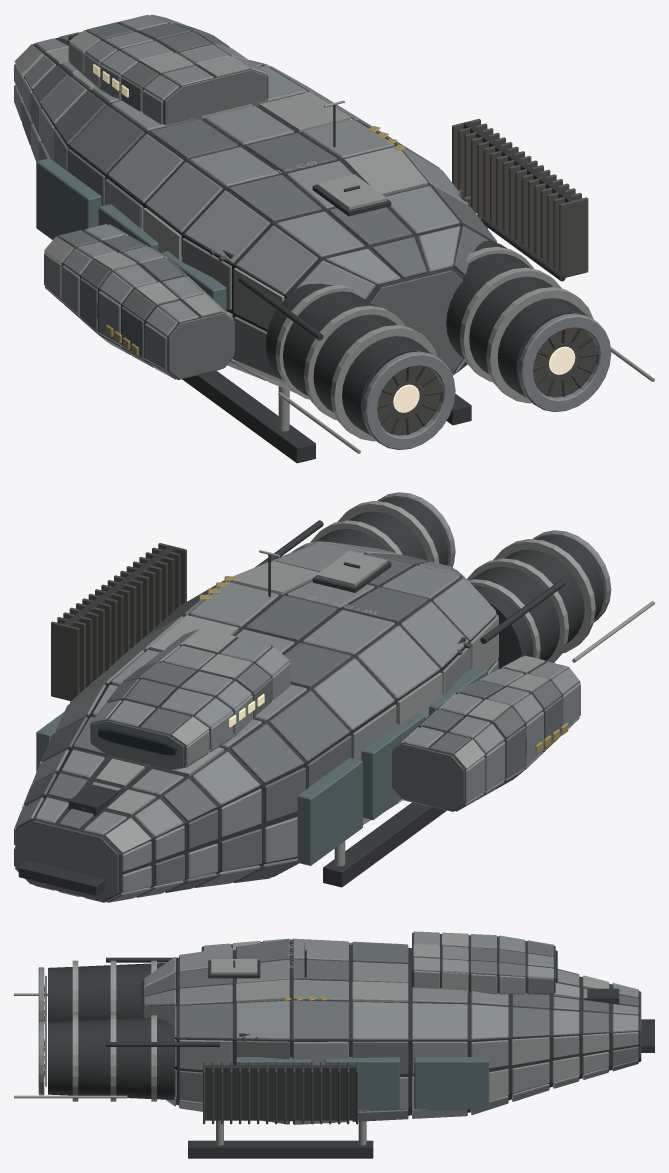
File: shuttle_swift.glb
3 views of the same model, one above another, from view 1: azimuth 30°, elevation 25°; view 2: azimuth 150°, elevation 25°; view 3: azimuth 270°, elevation 25° (orthographic). The views are drawn at different scales.
Visible parts, largest first — view 1: v3_council_hull, v3_council_secondary, v3_council_dark, v3_council_trim, v3_council_ceramic, v3_council_paint, v3_council_glow; view 2: v3_council_hull, v3_council_secondary, v3_council_dark, v3_council_trim, v3_council_ceramic, v3_council_paint, v3_council_glass; view 3: v3_council_dark, v3_council_hull, v3_council_secondary, v3_council_trim, v3_council_paint, v3_council_ceramic.
Part boxes in pixels (<box>): v3_council_hull: <box>14,14,611,449</box>; v3_council_secondary: <box>22,22,496,379</box>; v3_council_dark: <box>22,21,597,463</box>; v3_council_trim: <box>14,30,654,453</box>; v3_council_ceramic: <box>169,119,596,435</box>; v3_council_paint: <box>36,158,487,311</box>; v3_council_glow: <box>393,346,575,412</box>; v3_council_hull: <box>14,492,611,902</box>; v3_council_secondary: <box>14,542,562,901</box>; v3_council_dark: <box>15,497,603,901</box>; v3_council_trim: <box>22,501,654,897</box>; v3_council_ceramic: <box>51,543,471,701</box>; v3_council_paint: <box>36,666,487,865</box>; v3_council_glass: <box>98,728,176,755</box>; v3_council_dark: <box>44,932,654,1158</box>; v3_council_hull: <box>38,931,638,1124</box>; v3_council_secondary: <box>141,932,641,1124</box>; v3_council_trim: <box>14,933,638,1145</box>; v3_council_paint: <box>236,1057,489,1109</box>; v3_council_ceramic: <box>45,976,358,1124</box>.
Size of the model in its own units: 9.96 by 6 by 17.98.
